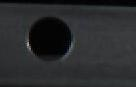holes: (24, 13, 74, 63)
